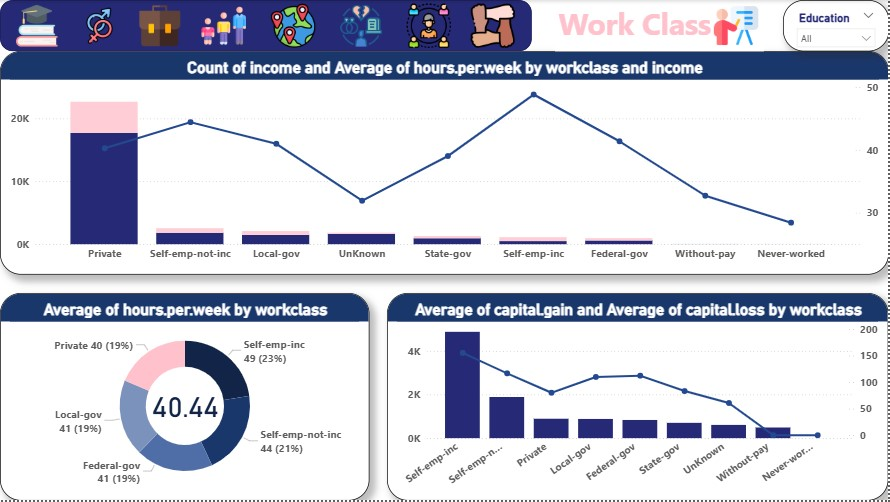

What the dashboard file says about the page in this screenshot:
{"tool":"powerbi","page":{"name":"workclass","canvas":[1280,720],"ordinal":7},"visuals":[{"type":"donutChart","fields":{"Category":["DimWorkClass.workclass"],"Y":["Avg(adult_cleaned.hours.per.week)"]},"box":[0,421.6,532.5,299],"z":0},{"type":"lineStackedColumnComboChart","fields":{"Y":["CountNonNull(adult_cleaned.income)"],"Category":["DimWorkClass.workclass"],"Y2":["Avg(adult_cleaned.hours.per.week)"],"Series":["adult_cleaned.income"]},"box":[0,73.9,1280,322.2],"z":1000},{"type":"lineClusteredColumnComboChart","fields":{"Y":["Avg(adult_cleaned.capital.gain)"],"Y2":["Avg(adult_cleaned.capital.loss)"],"Category":["DimWorkClass.workclass"]},"box":[557.7,421.6,722.3,299],"z":2000},{"type":"card","fields":{"Values":["Avg(adult_cleaned.hours.per.week)"]},"box":[211.7,549.3,110.9,65.5],"z":3000},{"type":"shape","box":[0,0,765.9,73.9],"z":4001},{"type":"image","box":[13.4,0,80.6,73.9],"z":4002},{"type":"image","box":[112.5,0,62.2,73.9],"z":4003},{"type":"image","box":[193.2,0,73.9,73.9],"z":4004},{"type":"image","box":[285.6,0,73.9,73.9],"z":4005},{"type":"image","box":[383,0,79,73.9],"z":4006},{"type":"image","box":[480.4,0,77.3,73.9],"z":4007},{"type":"image","box":[577.8,0,80.6,73.9],"z":4008},{"type":"image","box":[670.2,0,80.6,73.9],"z":4009},{"type":"slicer","fields":{"Values":["DimEducation.education"]},"box":[1127.1,0,152.9,73.9],"z":4010},{"type":"textbox","box":[799.6,0,300.7,73.9],"z":4011},{"type":"image","box":[1021.3,0,79,73.9],"z":4012}]}

Visuals, with their boxes in screenshot pixels (x1, y1, x2, y2), scaled from the page's 1280x720 canvas onto the 890x502 screenshot:
donutChart - DimWorkClass.workclass x Avg(adult_cleaned.hours.per.week): detection(0, 294, 370, 501)
lineStackedColumnComboChart - CountNonNull(adult_cleaned.income) x DimWorkClass.workclass: detection(0, 52, 889, 276)
lineClusteredColumnComboChart - Avg(adult_cleaned.capital.gain) x Avg(adult_cleaned.capital.loss): detection(388, 294, 889, 501)
card - Avg(adult_cleaned.hours.per.week): detection(147, 383, 224, 429)
shape: detection(0, 0, 533, 52)
image: detection(9, 0, 65, 52)
image: detection(78, 0, 121, 52)
image: detection(134, 0, 186, 52)
image: detection(199, 0, 250, 52)
image: detection(266, 0, 321, 52)
image: detection(334, 0, 388, 52)
image: detection(402, 0, 458, 52)
image: detection(466, 0, 522, 52)
slicer - DimEducation.education: detection(784, 0, 889, 52)
textbox: detection(556, 0, 765, 52)
image: detection(710, 0, 765, 52)
